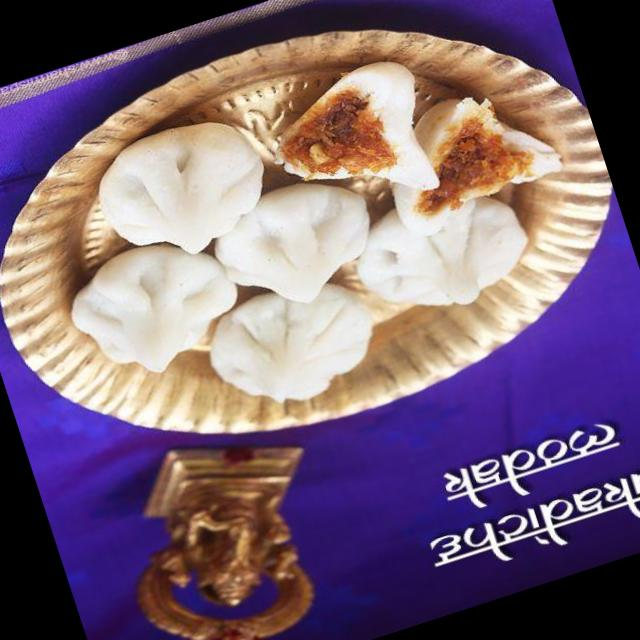modak: (78, 43, 516, 410)
